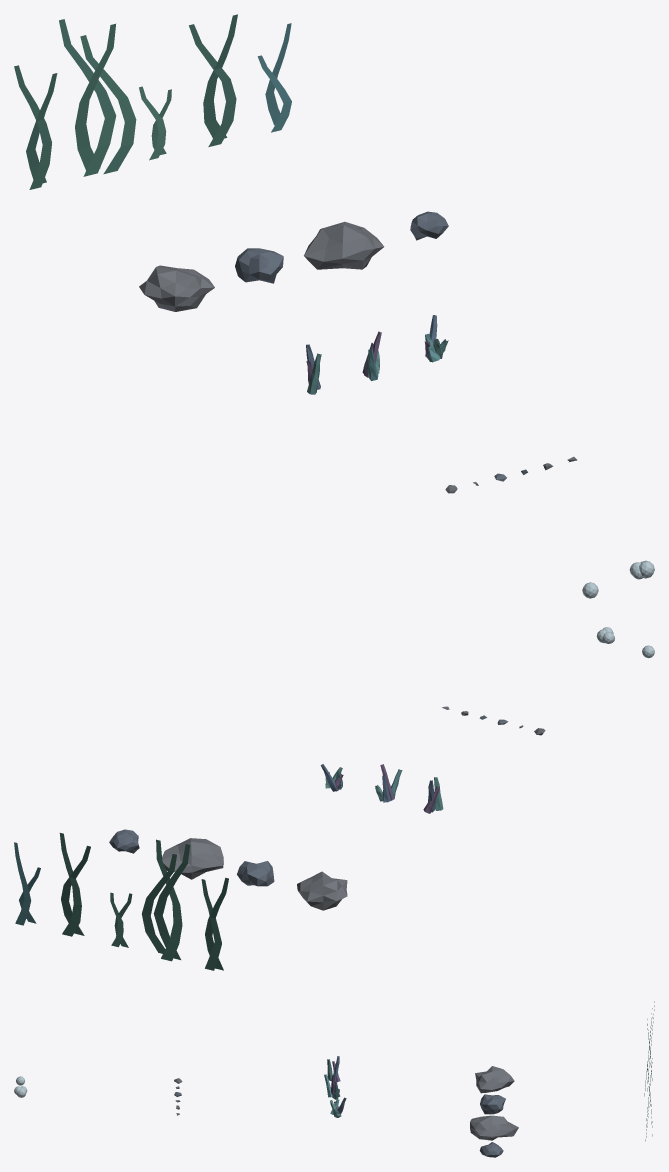
File: the_deep_scene.glb
The picture shows the model from 3 angles, top to bottom: view 1: azimuth 30°, elevation 25°; view 2: azimuth 150°, elevation 25°; view 3: azimuth 270°, elevation 25°; orthographic projection. The views are drawn at different scales.
Parts seen in each view (by area): view 1: seaweed_1, rock_2, rock_0, seaweed_3, seaweed_0, rock_1, seaweed_4, seaweed_2; view 2: seaweed_1, rock_2, seaweed_3, rock_0, seaweed_0, rock_1, seaweed_4, rock_3, coral_1, seaweed_2; view 3: rock_2, rock_0, rock_1, rock_3, coral_1.
Part boxes in pixels (x1,y1,x2,y2): seaweed_1: [59, 19, 136, 176]; rock_2: [304, 221, 384, 269]; rock_0: [139, 265, 214, 311]; seaweed_3: [189, 14, 237, 146]; seaweed_0: [14, 65, 57, 189]; rock_1: [235, 248, 283, 283]; seaweed_4: [257, 23, 291, 132]; seaweed_2: [139, 86, 171, 160]; seaweed_1: [142, 839, 190, 961]; rock_2: [162, 838, 223, 879]; seaweed_3: [59, 833, 90, 936]; rock_0: [297, 871, 347, 910]; seaweed_0: [201, 877, 228, 970]; rock_1: [237, 861, 274, 886]; seaweed_4: [14, 842, 40, 925]; rock_3: [109, 829, 139, 853]; coral_1: [375, 764, 402, 802]; seaweed_2: [110, 892, 132, 947]; rock_2: [470, 1115, 518, 1140]; rock_0: [475, 1066, 514, 1093]; rock_1: [480, 1094, 505, 1114]; rock_3: [479, 1142, 503, 1157]; coral_1: [324, 1074, 340, 1099].
Bounding box in the file's own units: 2.5 × 1.4 × 8.15.
